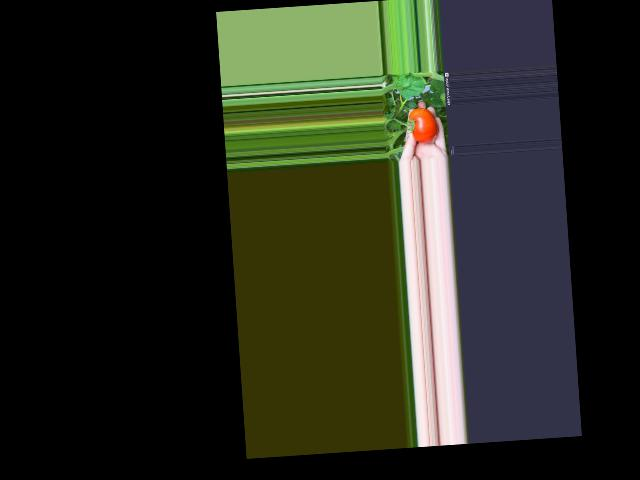tomato: (409, 107, 438, 144)
